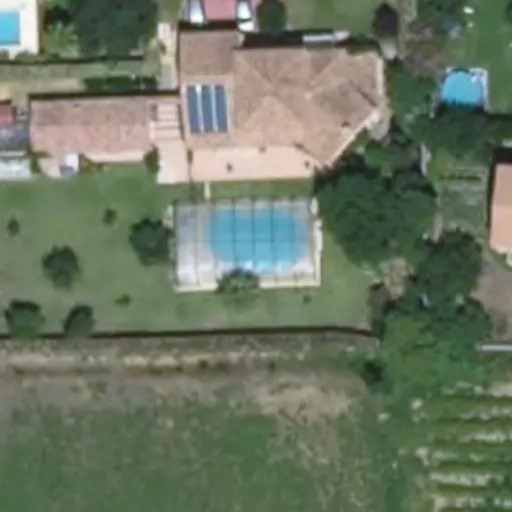pool: (199, 201, 321, 286), (440, 67, 488, 124)
